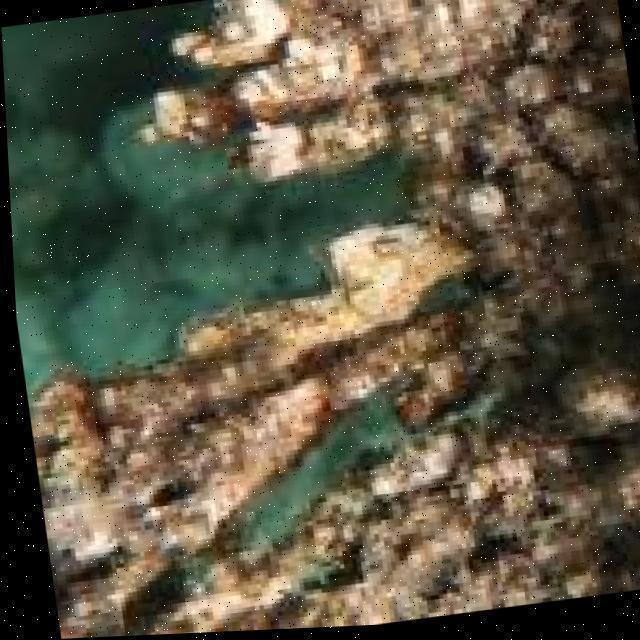Dead Coral: (39, 0, 640, 604)
